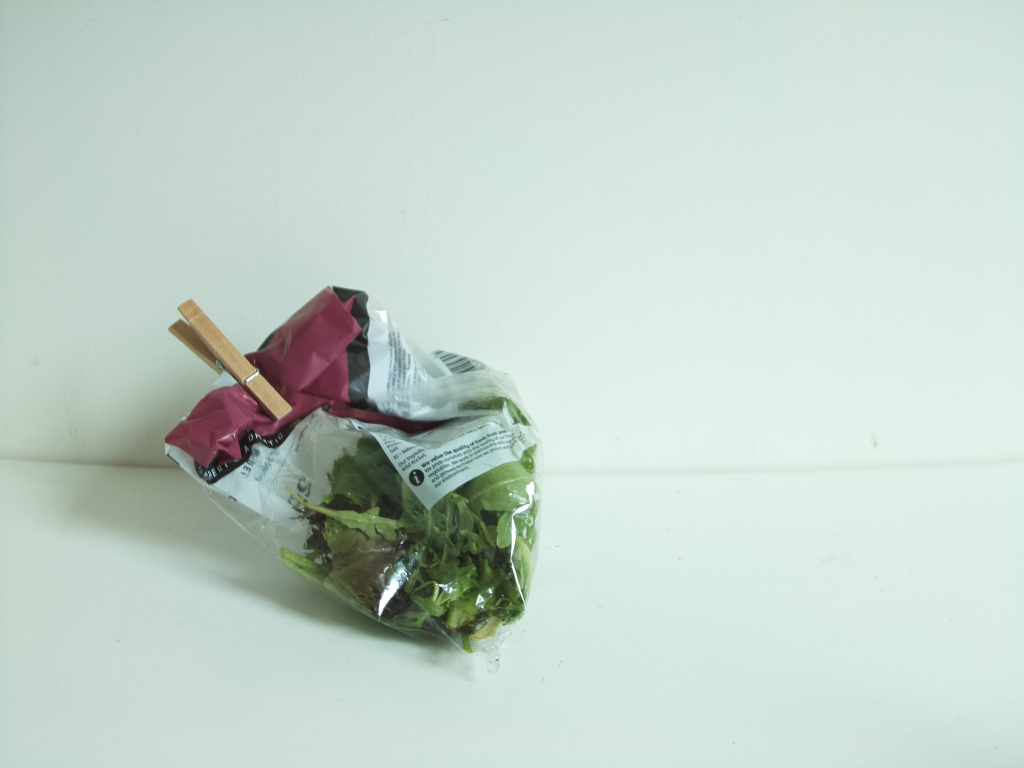salad: (159, 275, 536, 666)
